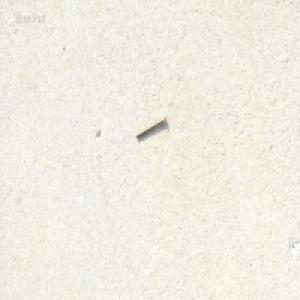Bolt: (135, 113, 166, 139)
